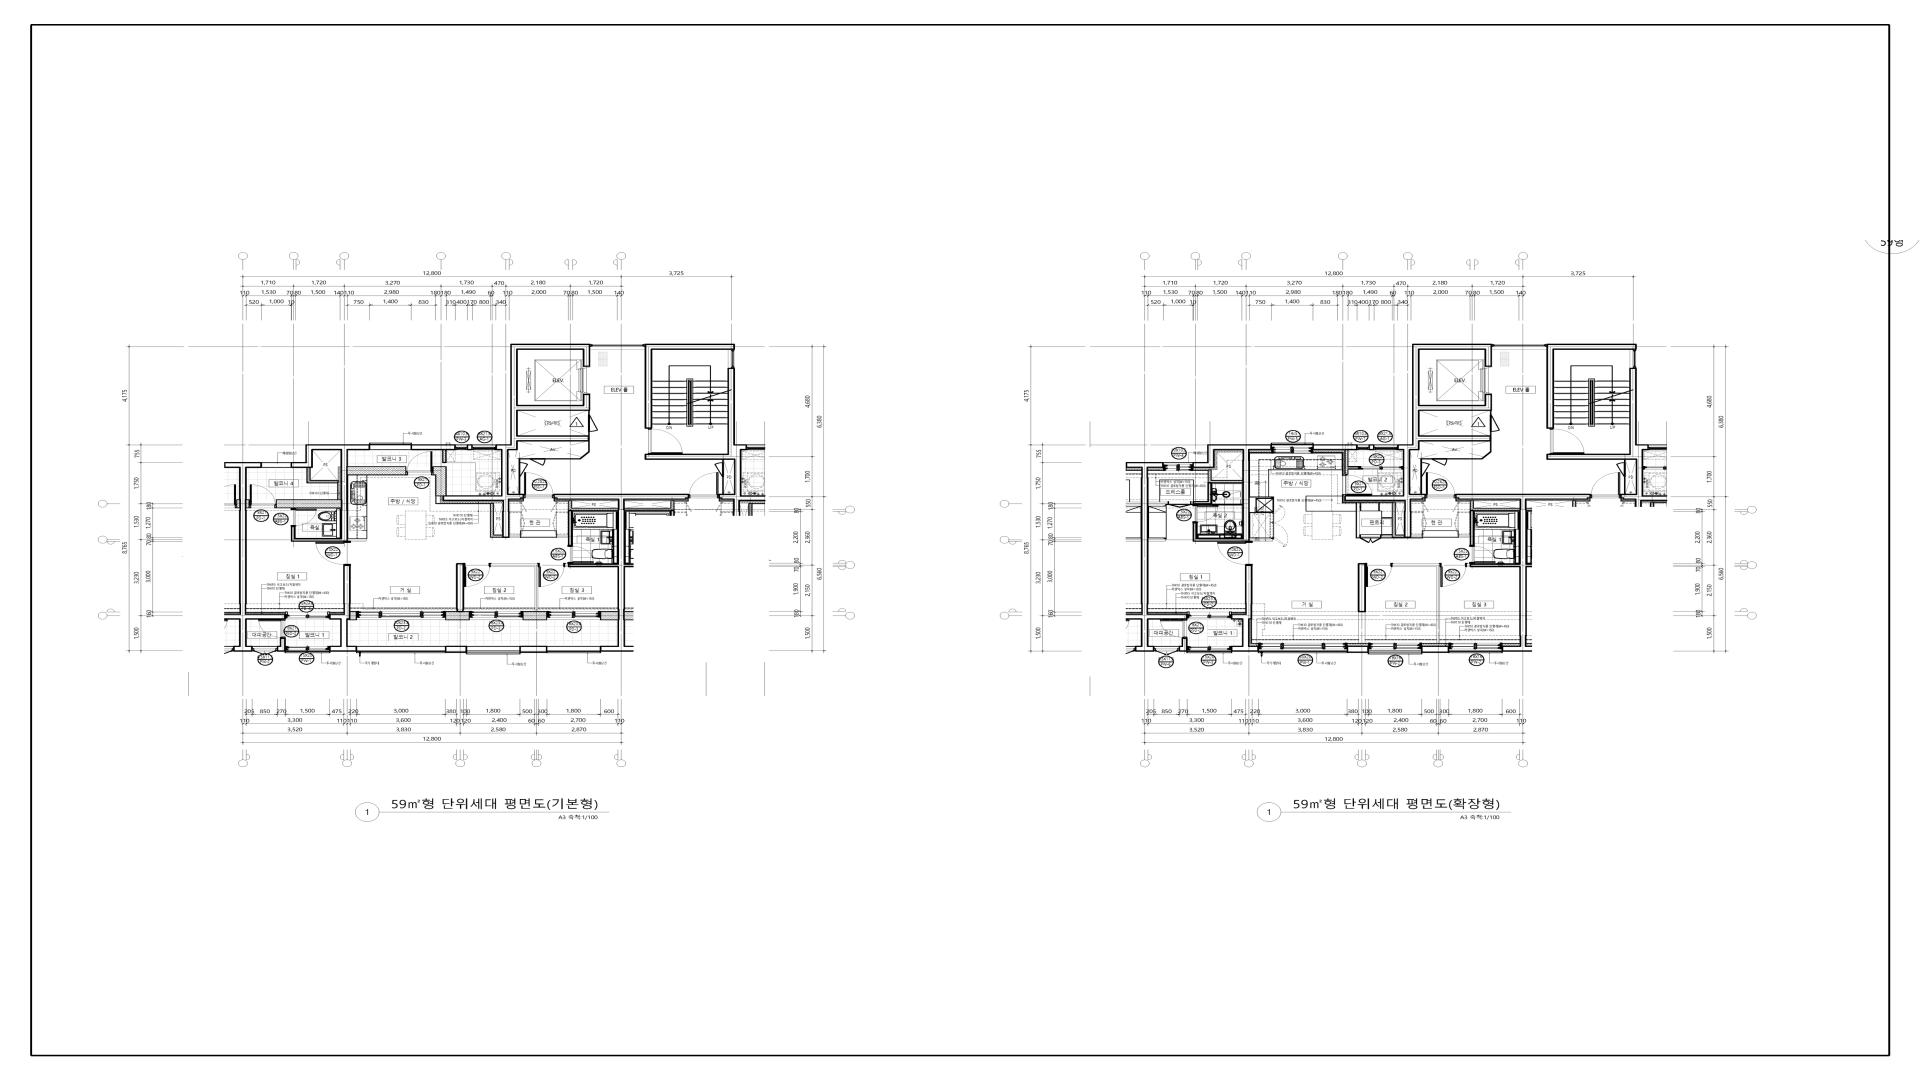door: (1547, 429, 1585, 454), (645, 429, 683, 454), (1217, 542, 1253, 566), (315, 542, 351, 566), (1590, 472, 1621, 498), (1425, 472, 1456, 498), (524, 472, 554, 498), (688, 472, 719, 498), (538, 563, 566, 588), (406, 451, 433, 476), (464, 563, 491, 588), (1440, 563, 1466, 588), (1366, 563, 1393, 588), (249, 484, 276, 509), (1342, 475, 1373, 496), (1160, 620, 1188, 638), (258, 620, 286, 638), (567, 545, 595, 563), (1192, 505, 1218, 524), (1469, 545, 1495, 563), (290, 509, 316, 527), (1224, 492, 1242, 505), (1360, 534, 1381, 543), (1167, 501, 1192, 508)
wall: (1344, 344, 1493, 538), (443, 344, 591, 538), (1456, 493, 1590, 651), (554, 493, 688, 651), (645, 368, 746, 500), (1547, 368, 1643, 500), (1141, 462, 1187, 651), (239, 462, 285, 651), (1192, 444, 1271, 542), (291, 444, 369, 542), (1547, 344, 1636, 429), (645, 344, 735, 429), (1393, 563, 1440, 644), (491, 564, 547, 621), (556, 500, 618, 545), (1458, 500, 1519, 545), (330, 566, 356, 651), (1232, 566, 1258, 651), (1191, 469, 1242, 505), (446, 563, 469, 621), (1381, 502, 1404, 538), (1358, 563, 1366, 644), (276, 500, 340, 509), (433, 467, 447, 504), (348, 467, 406, 476), (306, 468, 339, 484), (491, 502, 502, 538), (1345, 451, 1360, 475), (411, 444, 456, 451), (1313, 444, 1357, 451), (1423, 646, 1448, 653), (521, 646, 546, 653), (600, 612, 617, 621), (1356, 502, 1360, 538), (1348, 646, 1367, 653), (446, 646, 465, 653), (1179, 638, 1188, 651), (277, 638, 286, 651), (442, 451, 447, 463), (1250, 539, 1273, 542), (351, 611, 356, 621), (348, 539, 367, 542), (1149, 539, 1166, 542), (1369, 444, 1374, 451), (467, 444, 472, 451), (1411, 535, 1423, 538), (509, 535, 521, 538), (1149, 502, 1168, 504), (247, 500, 249, 509), (1466, 564, 1470, 567), (566, 564, 568, 567)
window: (356, 611, 446, 621), (1258, 642, 1348, 653), (1367, 642, 1423, 654), (356, 646, 446, 653), (1448, 642, 1503, 653), (469, 612, 524, 621), (547, 612, 600, 621), (1271, 443, 1313, 454), (465, 646, 521, 654), (546, 646, 601, 653), (285, 612, 330, 620), (1187, 612, 1232, 620), (369, 443, 411, 451), (286, 646, 331, 653), (1188, 646, 1233, 653), (1491, 344, 1547, 349), (589, 344, 645, 349), (1163, 462, 1193, 471), (252, 646, 277, 657), (1154, 646, 1179, 657), (261, 462, 291, 468), (1360, 465, 1403, 469), (472, 444, 496, 451), (1374, 444, 1398, 451), (1630, 349, 1636, 368), (728, 349, 735, 368), (1357, 444, 1369, 451), (456, 444, 467, 451)
